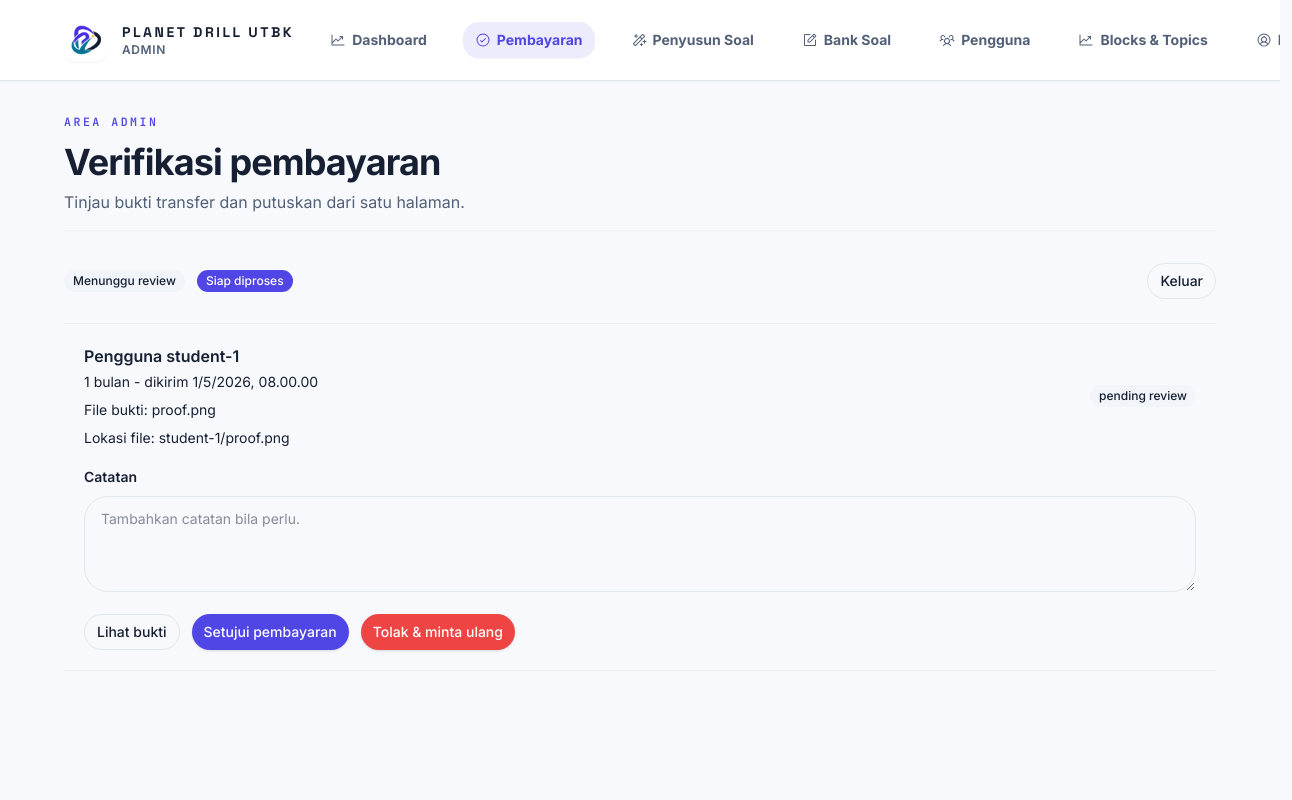
Test: Payments page › keeps the queue surface visible when a concurrent review error occurs
Click the button "Setujui pembayaran".
click(270, 632)  # box [192,614,349,650]
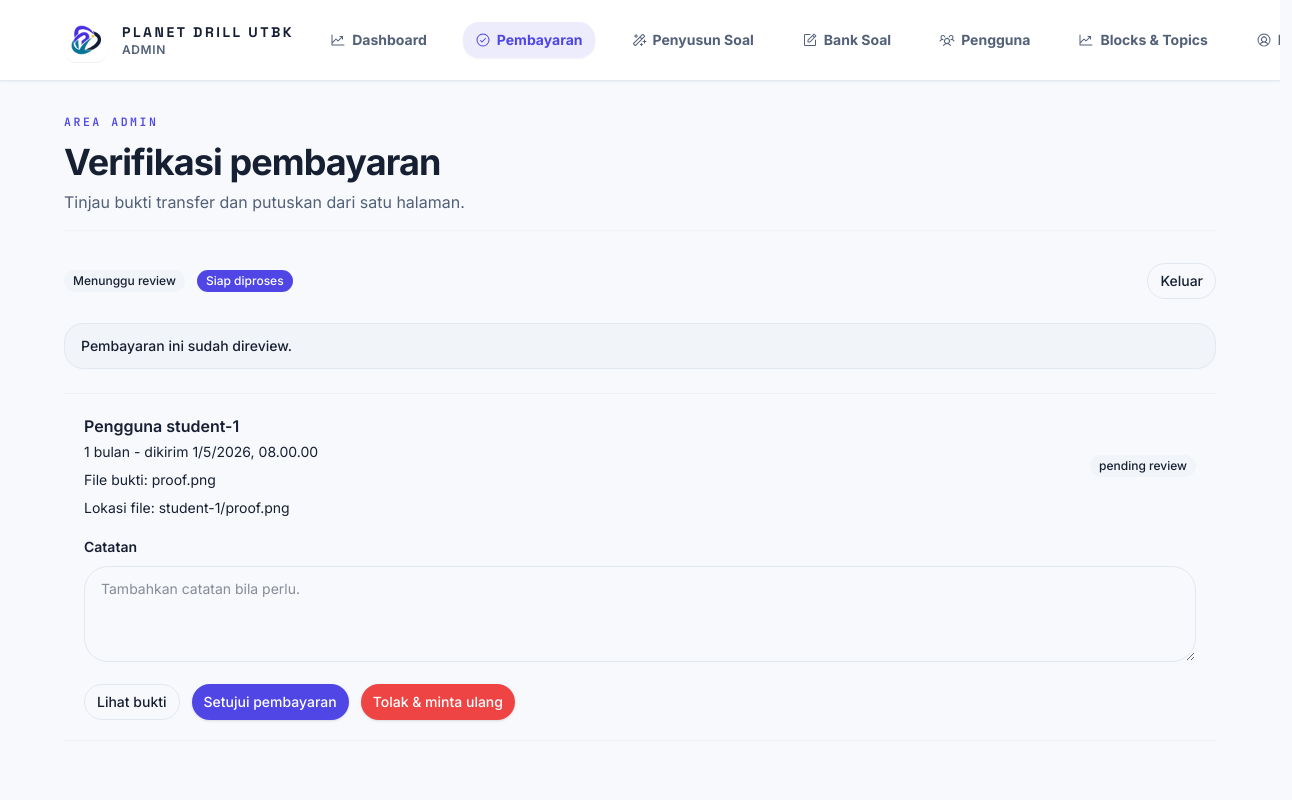
Check: the text "Pengguna student-1" is shown, box [84,416,239,436]
Check: the text "Pembayaran ini sudah direview." is shown, box [64,323,1216,369]
